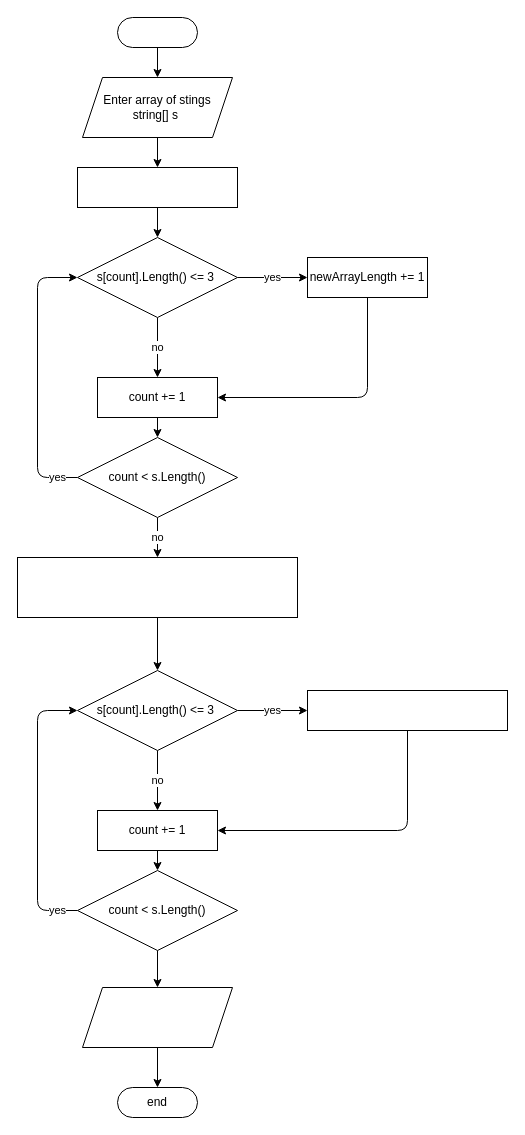
Some shapes in this 525 by 1135 pixel diagram are drawn without their labels. Here are the shapes that lost their labels. From the top down, the centre of each, then its label:
pixel 157 32: Start
pixel 157 187: int count = 0 int newArrayLength = 0
pixel 157 587: string[] newArray = new string[newArrayLength] count = 0 int newCount = 0
pixel 407 710: newArray[newCount] = s[count] newCount += 1
pixel 157 1017: print(newArray)
